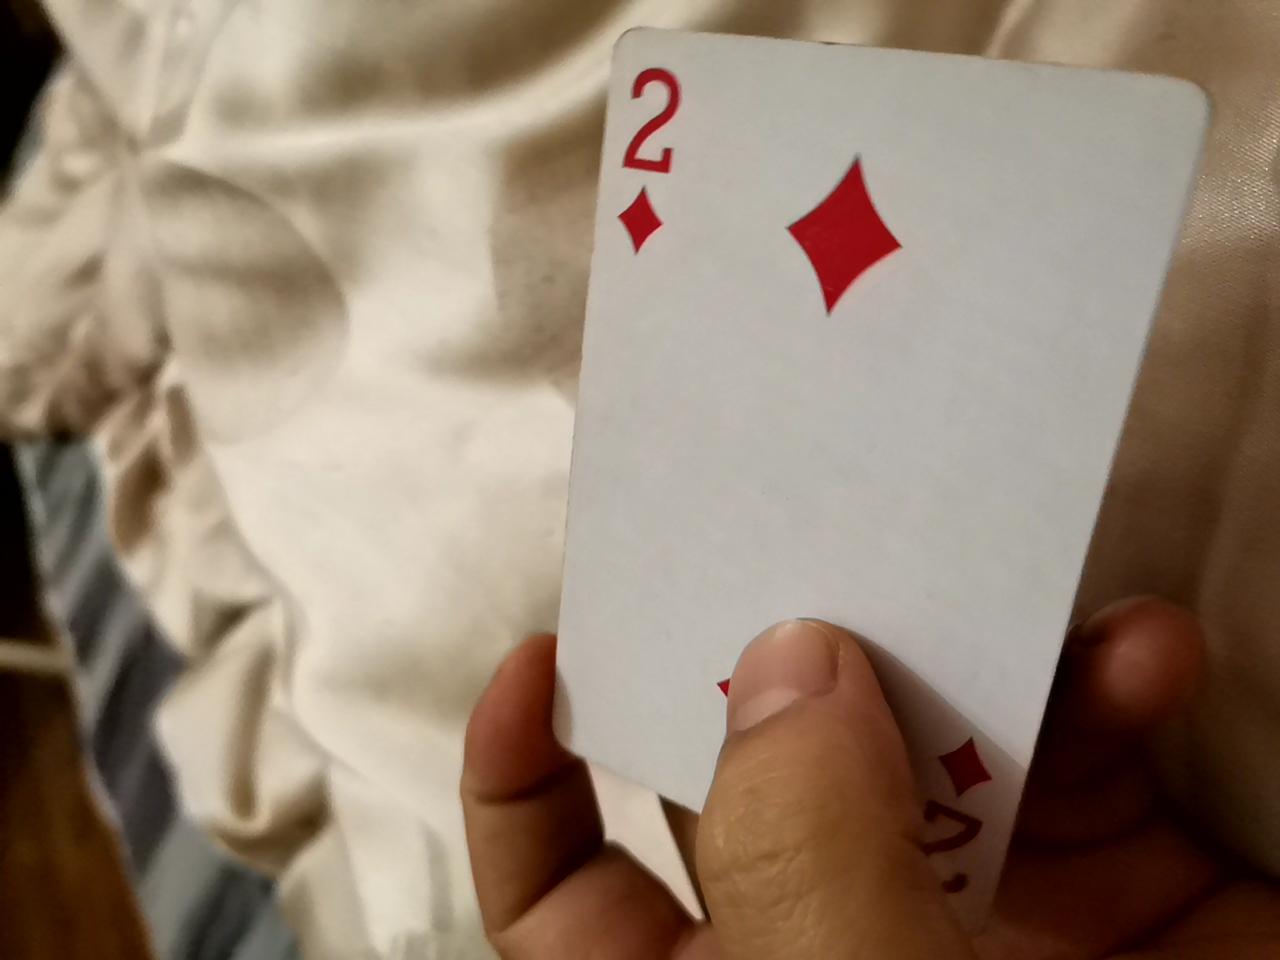fk 2: (433, 11, 1262, 855)
